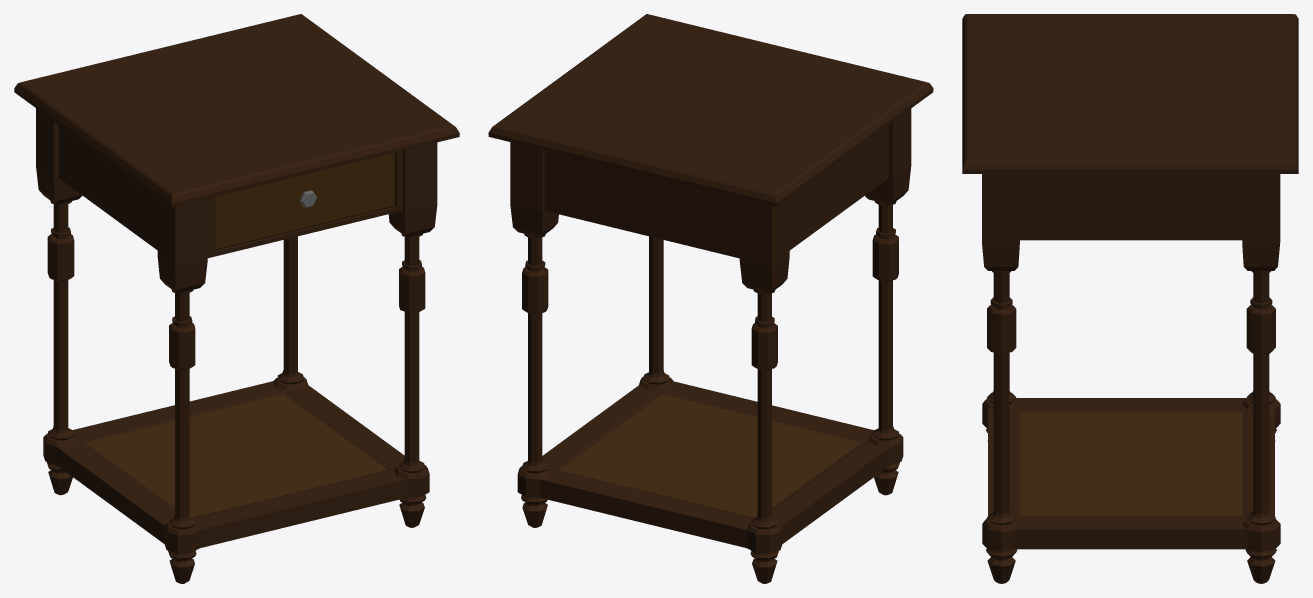
File: table.fbx
3 renders of one model, left to right at view 1: azimuth 30°, elevation 25°; view 2: azimuth 150°, elevation 25°; view 3: azimuth 270°, elevation 25°, orthographic. The views are drawn at different scales.
Visible parts, largest first — view 1: Table_Side_Traditional, Table_Side_Traditional_Draw; view 2: Table_Side_Traditional; view 3: Table_Side_Traditional.
Part boxes in pixels (x1,y1,x2,y2): Table_Side_Traditional: (14,14,459,583); Table_Side_Traditional_Draw: (212,153,394,251); Table_Side_Traditional: (488,14,933,583); Table_Side_Traditional: (962,14,1298,583).
Bounding box in the file's own units: 45.19 × 60.84 × 42.65.
Materials: 1 (1 with a texture image).
